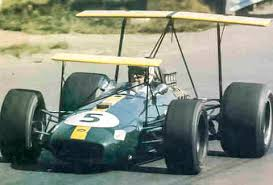f1_car: (1, 6, 273, 179)
